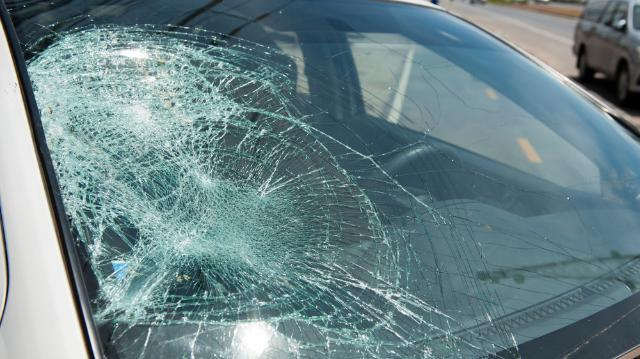glass shatter: (2, 0, 640, 359)
